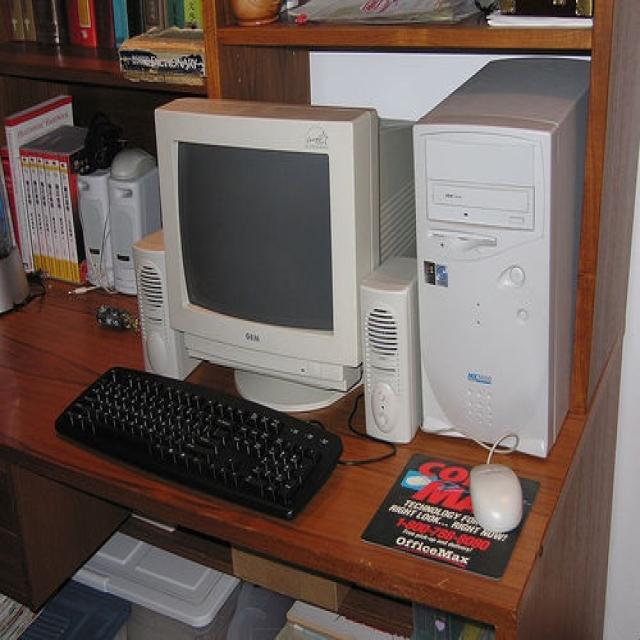tvmonitor: (154, 96, 412, 413)
